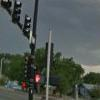Traffic light: (5, 2, 40, 46)
